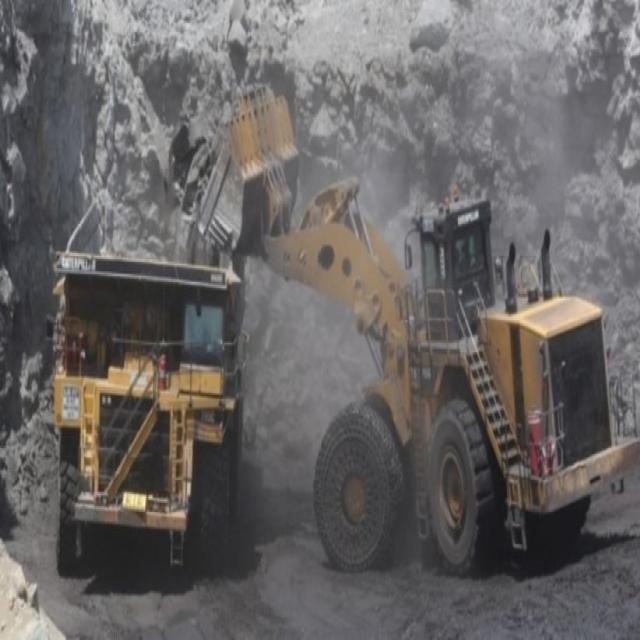buldozerpayloadergrader: (205, 58, 631, 571)
dump_truck: (60, 198, 248, 600)
